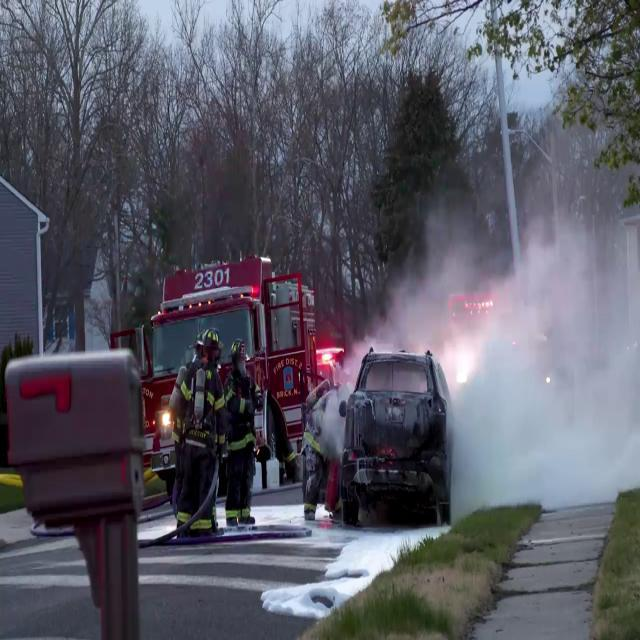Smoke: (380, 56, 640, 508)
